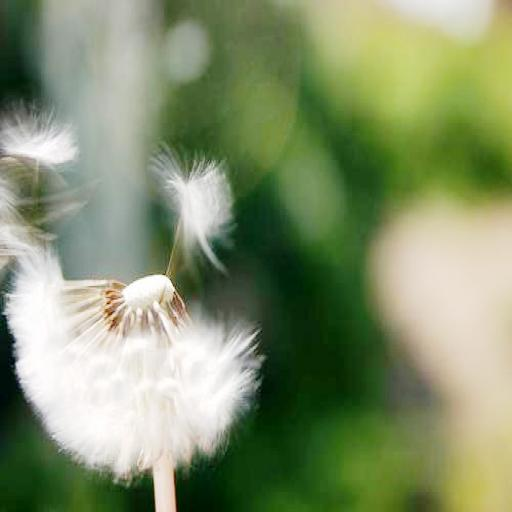dandelion: (2, 118, 259, 474)
